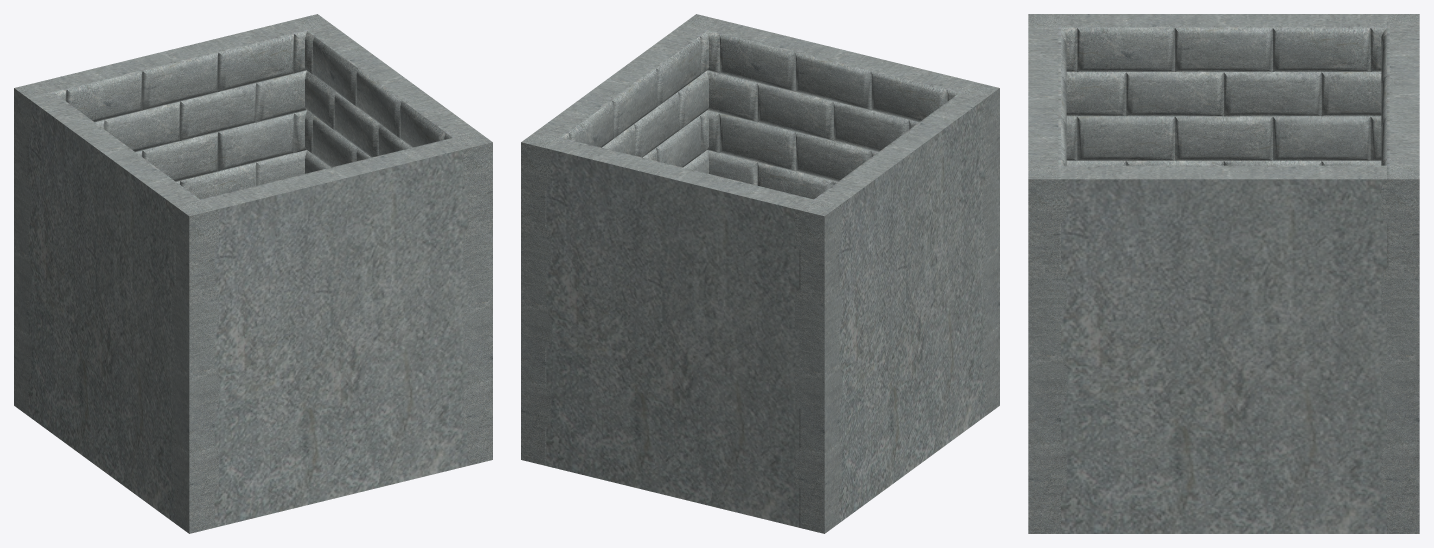
File: Geomorph-StoneBrick-wall15.glb
3 renders of one model, left to right at view 1: azimuth 30°, elevation 25°; view 2: azimuth 150°, elevation 25°; view 3: azimuth 270°, elevation 25°, orthographic. The views are drawn at different scales.
Parts seen in each view (by area): view 1: Wall; view 2: Wall; view 3: Wall.
Boxes of the visible parts, x1,y1,x2,y2 form: Wall: (14,14,492,533); Wall: (521,14,999,533); Wall: (1028,14,1419,533).
Bounding box in the file's own units: 3 × 3 × 3.
Materials: 1 (1 with a texture image).
